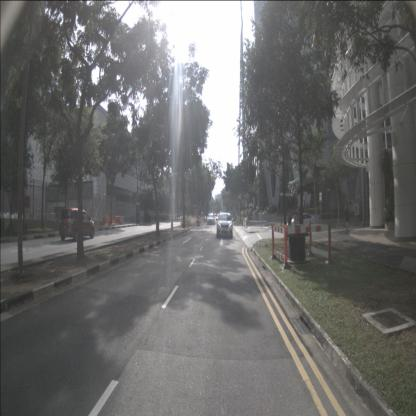human-pedestrian-adult: (344, 201, 350, 233), (294, 210, 299, 236), (288, 212, 292, 236), (259, 210, 263, 228)
vehicle-car: (59, 207, 95, 243), (285, 212, 316, 235), (216, 211, 233, 238), (207, 213, 215, 225)
